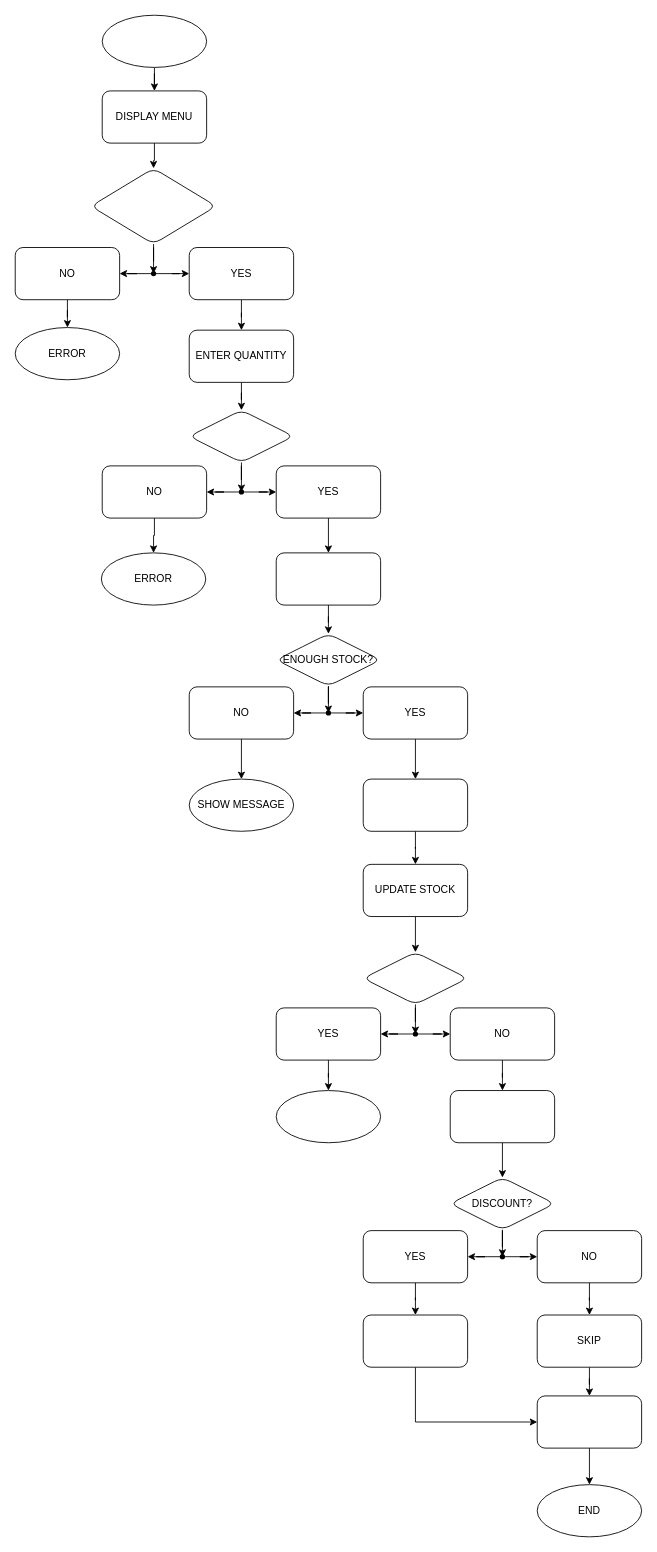
This 657x1552 diagram has some shape labels left out. Each missing label, with the box of its shape:
ADD TO CART: (362, 778, 468, 831)
APPLY 10%: (362, 1314, 468, 1367)
BACK TO MENU: (275, 1090, 381, 1143)
CHECK STOCK: (275, 552, 381, 605)
COMPUTE TOTAL: (449, 1090, 555, 1143)
CONTINUE? Y/N: (362, 951, 468, 1004)
ENTER PRODUCT NUMBER: (90, 167, 216, 244)
SHOW RECEIPT: (536, 1395, 642, 1448)
START: (101, 14, 207, 67)
VALID?: (188, 409, 294, 462)
